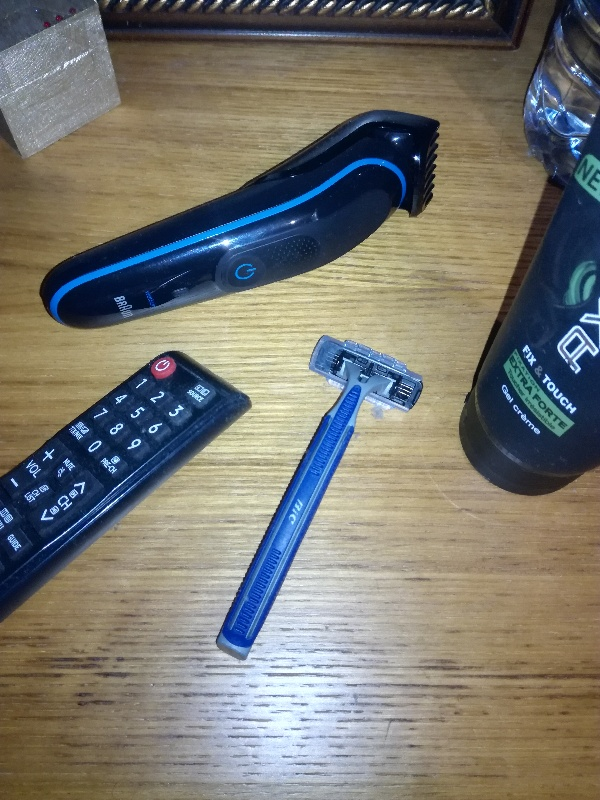beard trimmer: (41, 110, 440, 330)
gilete: (214, 332, 427, 663)
